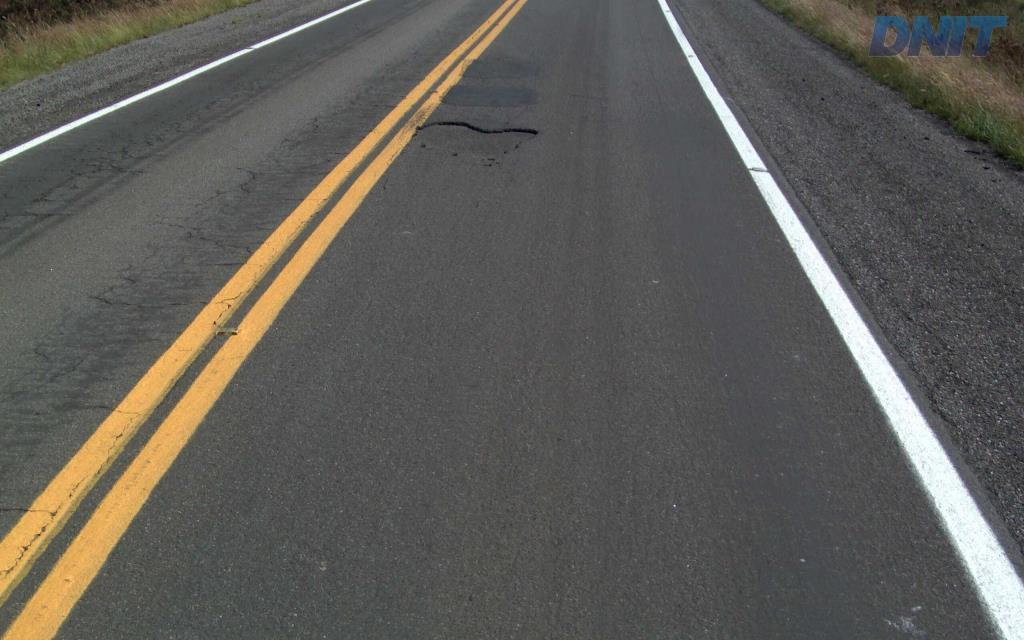pothole: (413, 115, 539, 163)
